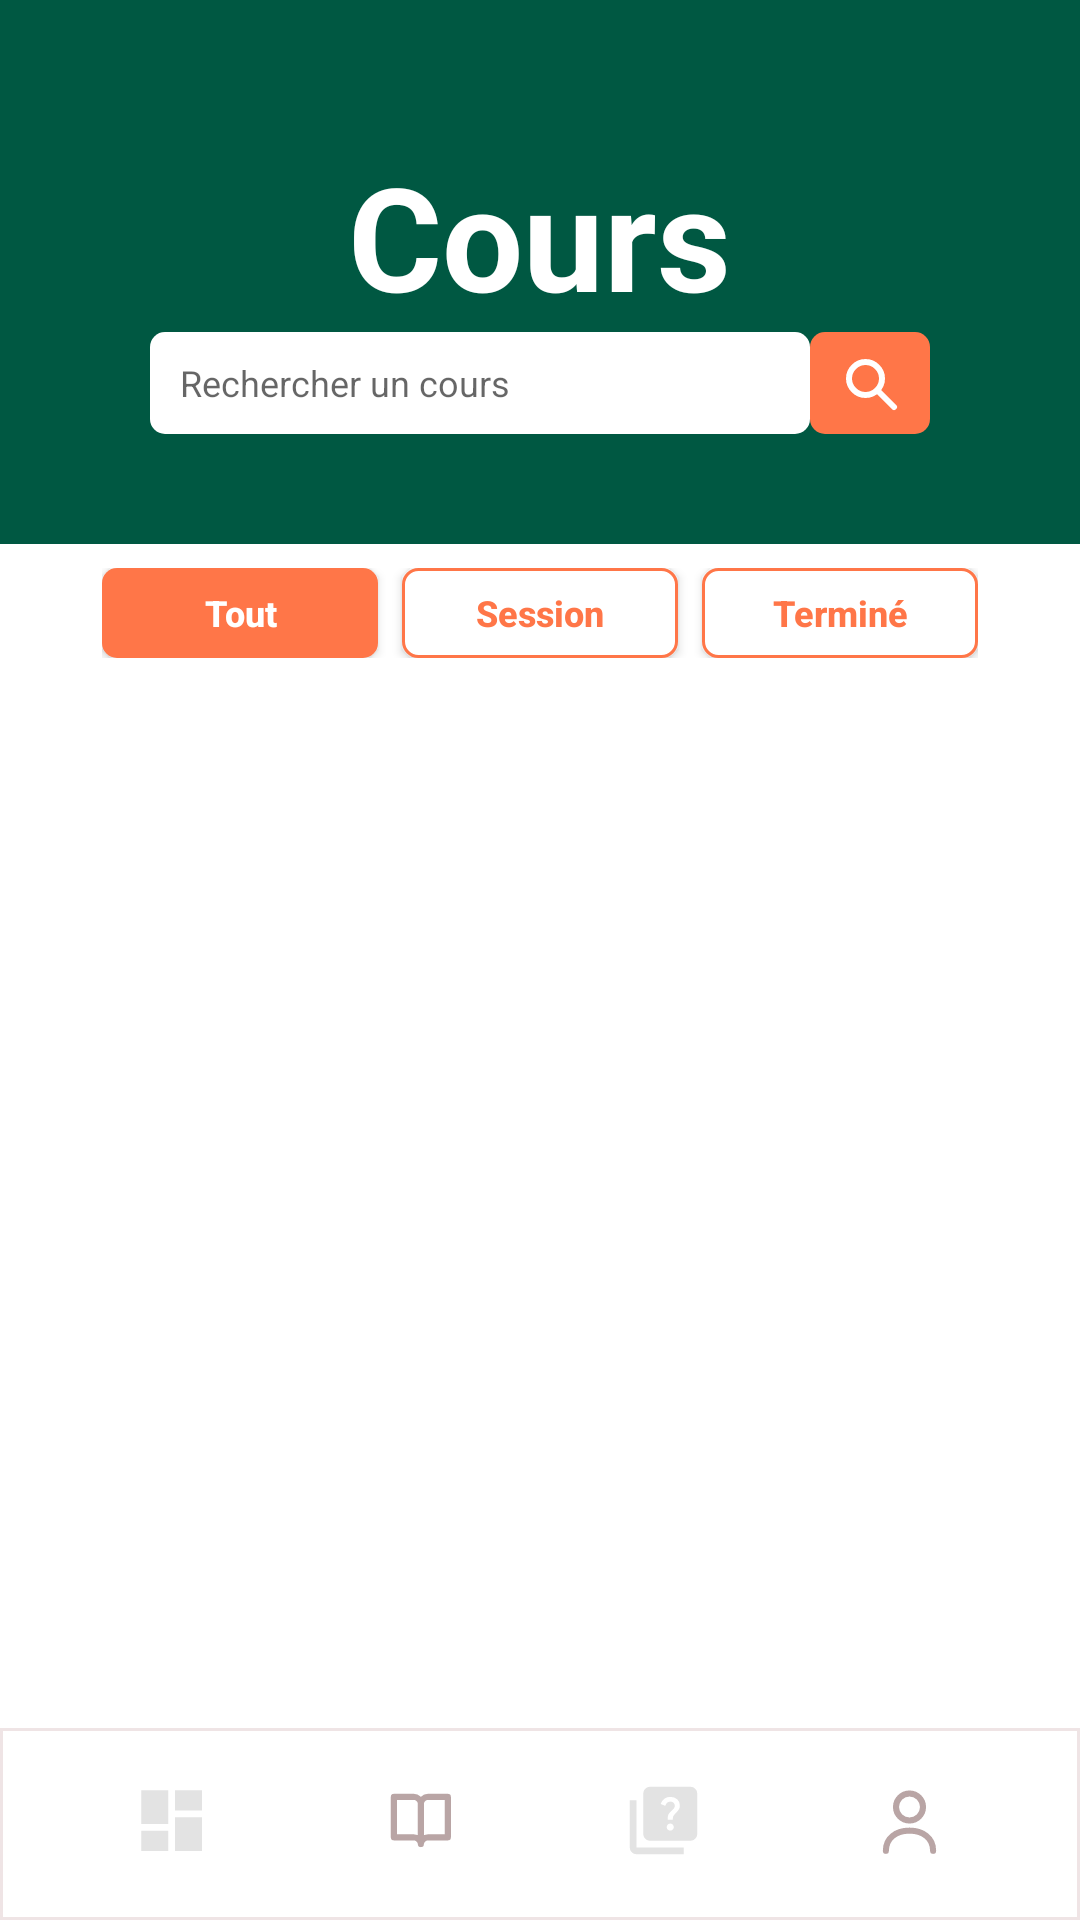

Icons on this 1080w x 1920h Android screen, each with its box as (x1, y1, x2, y2):
Compte: (883, 1790, 936, 1854)
Cours: (391, 1794, 451, 1847)
Quiz: (630, 1787, 697, 1854)
Tableau de bord: (142, 1791, 202, 1851)
